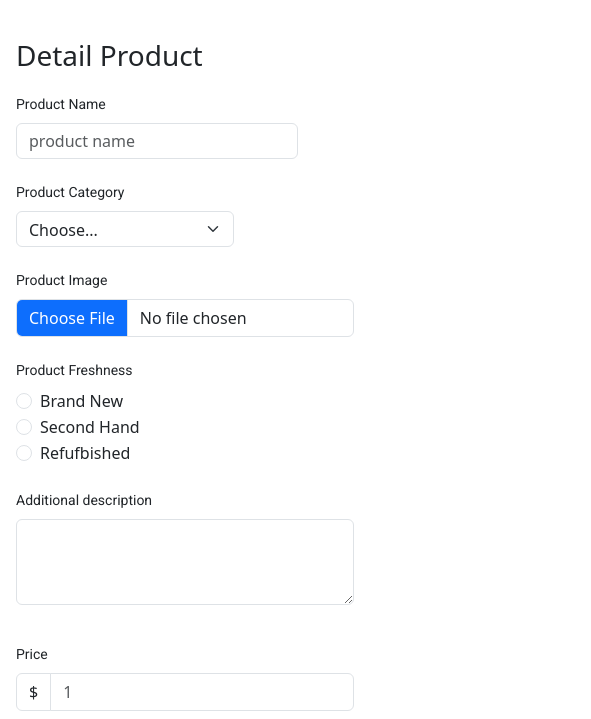
it: FormProduct › input form validation must be correct › displays an error message if Product Name is empty
Clear the field labelled "Product Name": (157, 141) [16,123,298,159]
(page scrolled)
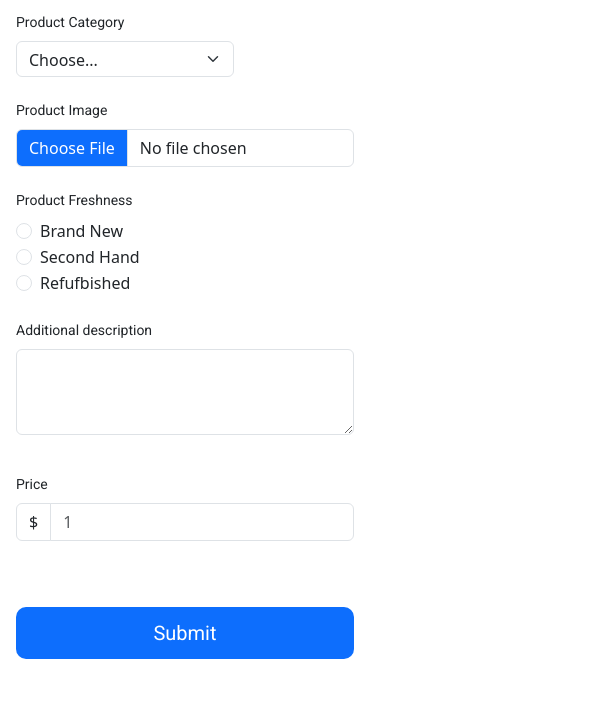
Click the button "Submit": (185, 633) [16,607,354,659]
(page scrolled)
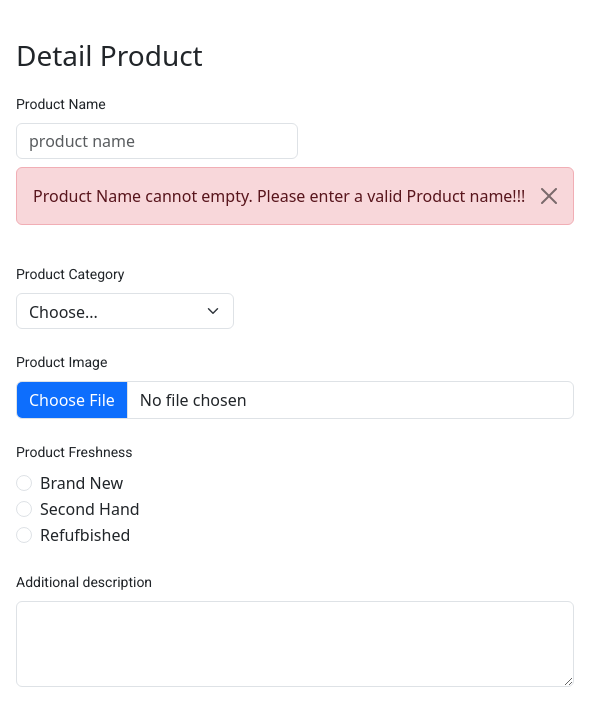
Result: the text "Product Name cannot empty. Please enter a valid Product name!!!" is shown at [16,167,574,225]
